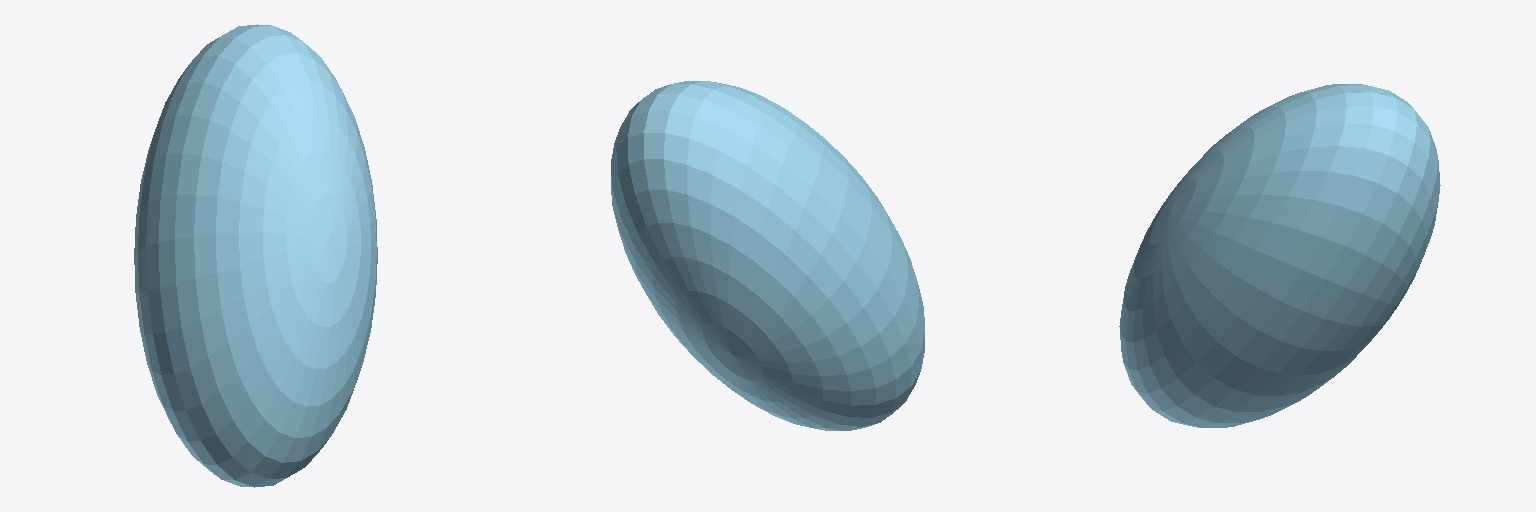
3 views of the same model, side by side, from view 1: azimuth 30°, elevation 25°; view 2: azimuth 150°, elevation 25°; view 3: azimuth 270°, elevation 25° (orthographic).
Parts seen in each view (by area): view 1: Mano_Izquierda; view 2: Mano_Izquierda; view 3: Mano_Izquierda.
Boxes of the visible parts, x1,y1,x2,y2 form: Mano_Izquierda: [134, 24, 377, 487]; Mano_Izquierda: [611, 81, 924, 430]; Mano_Izquierda: [1119, 84, 1440, 427].
Size of the model in its own units: 1.13 by 1.72 by 1.36.
1 materials, 1 textured.